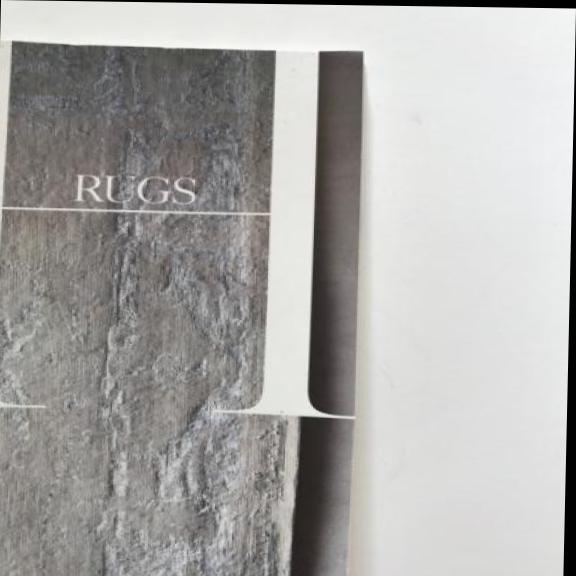Kertas: (0, 30, 392, 576)
